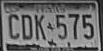5: (55, 12, 68, 40), (82, 14, 94, 40)
7: (68, 12, 80, 40)
C: (6, 12, 20, 41)
D: (21, 13, 33, 42)
K: (34, 13, 47, 42)
